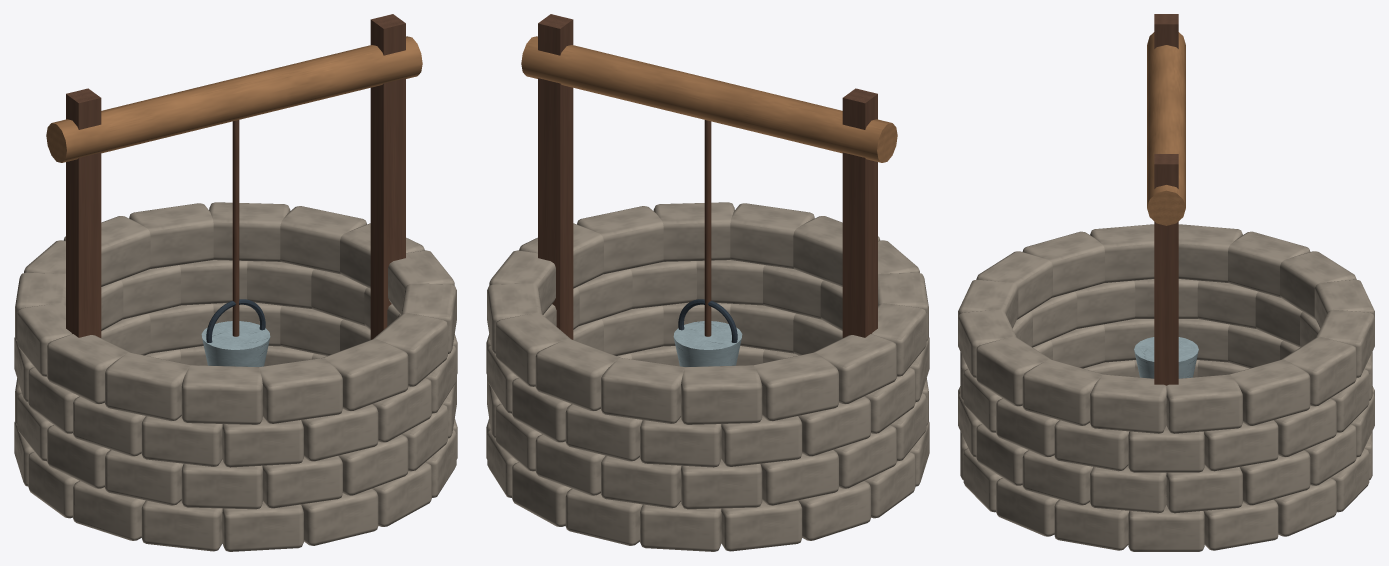
Rendered from Well.glb.
The picture shows the model from 3 angles, left to right: view 1: azimuth 30°, elevation 25°; view 2: azimuth 150°, elevation 25°; view 3: azimuth 270°, elevation 25°; orthographic projection. The views are drawn at different scales.
Visible parts, largest first — view 1: Windlass, Upright.001, Upright, Cut stone.057, Cut stone.058, Cut stone.056, Cut stone.059, Cut stone.050, Cut stone.048, Cut stone.049, Cut stone.055, Cut stone.042 (+44 smaller); view 2: Windlass, Upright.001, Upright, Cut stone.052, Cut stone.051, Cut stone.053, Cut stone.050, Cut stone.059, Cut stone.061, Cut stone.060, Cut stone.054, Cut stone.036 (+44 smaller); view 3: Windlass, Upright.001, Cut stone.063, Cut stone.062, Cut stone.048, Cut stone.061, Cut stone.053, Cut stone.056, Cut stone.047, Cut stone.031, Cut stone.016, Cut stone (+41 smaller).
Part boxes in pixels (x1,y1,x2,y2): Windlass: (46,36,422,162); Upright.001: (370,14,405,339); Upright: (66,88,101,337); Cut stone.057: (181,365,262,424); Cut stone.058: (259,358,342,423); Cut stone.056: (105,352,190,421); Cut stone.059: (323,339,408,411); Cut stone.050: (129,203,213,268); Cut stone.048: (280,206,366,274); Cut stone.049: (209,202,290,261); Cut stone.055: (47,334,130,404); Cut stone.042: (222,417,303,467); Windlass: (521,36,897,162); Upright.001: (538,14,573,339); Upright: (842,88,877,337); Cut stone.052: (681,365,762,424); Cut stone.051: (601,358,684,423); Cut stone.053: (753,352,838,421); Cut stone.050: (535,339,620,411); Cut stone.059: (730,203,814,268); Cut stone.061: (577,206,663,274); Cut stone.060: (653,202,734,261); Cut stone.054: (813,334,896,404); Cut stone.036: (640,417,721,467); Windlass: (1147,32,1185,225); Upright.001: (1154,154,1178,385); Cut stone.063: (1166,374,1242,433); Cut stone.062: (1090,374,1166,433); Cut stone.048: (1229,359,1310,425); Cut stone.061: (1022,359,1103,425); Cut stone.053: (1228,231,1310,297); Cut stone.056: (1022,231,1104,297); Cut stone.047: (1128,425,1204,472); Cut stone.031: (1090,466,1166,513); Cut stone.016: (1166,466,1242,513); Cut stone: (1128,505,1204,551).
Size of the model in its own units: 2.57 by 2.58 by 2.57.
5 materials, 5 textured.
